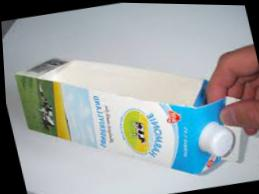glass: (4, 33, 258, 193)
plastic: (5, 55, 258, 193)
